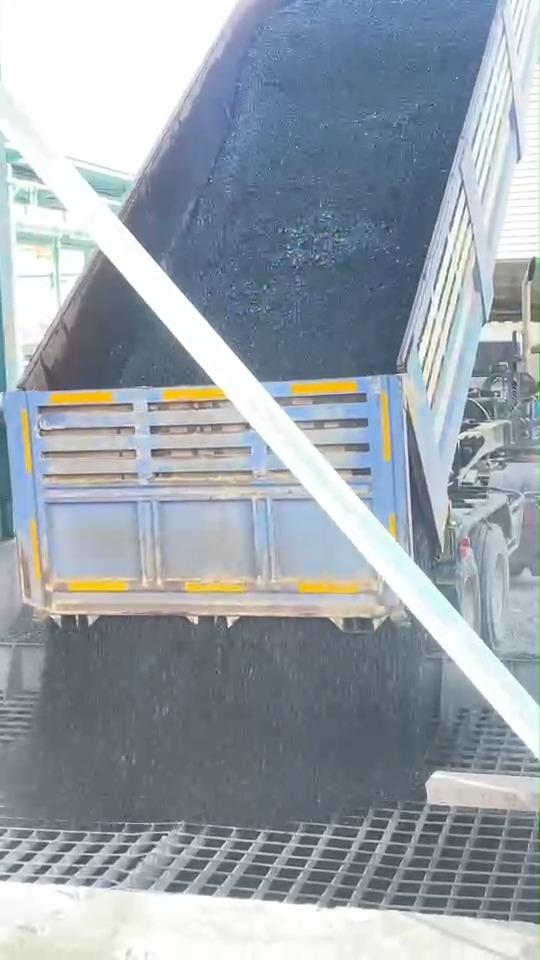gravel: (163, 0, 494, 379), (0, 620, 435, 826), (119, 312, 200, 385), (153, 183, 168, 192), (20, 625, 30, 631), (115, 303, 118, 309)
